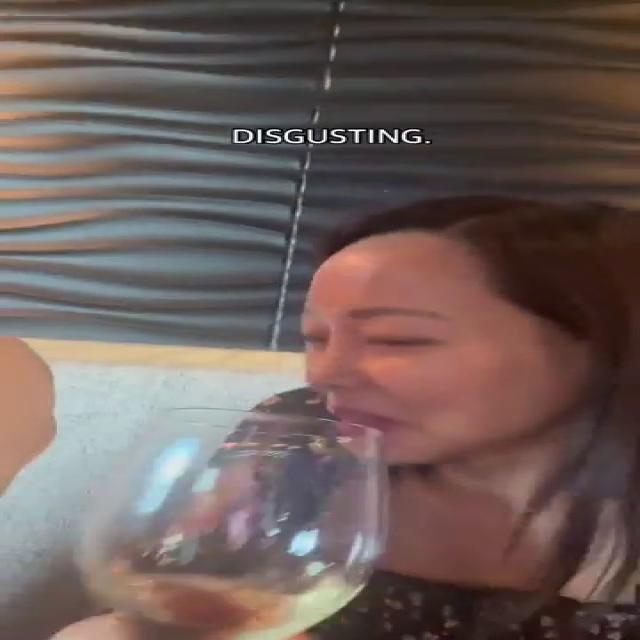Cup: (71, 408, 387, 639)
Hand: (48, 603, 320, 640)
Mouth: (321, 400, 415, 432)
